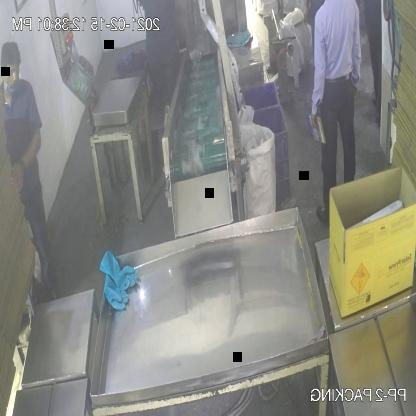no_glove: (8, 121, 44, 199), (306, 16, 327, 133)
